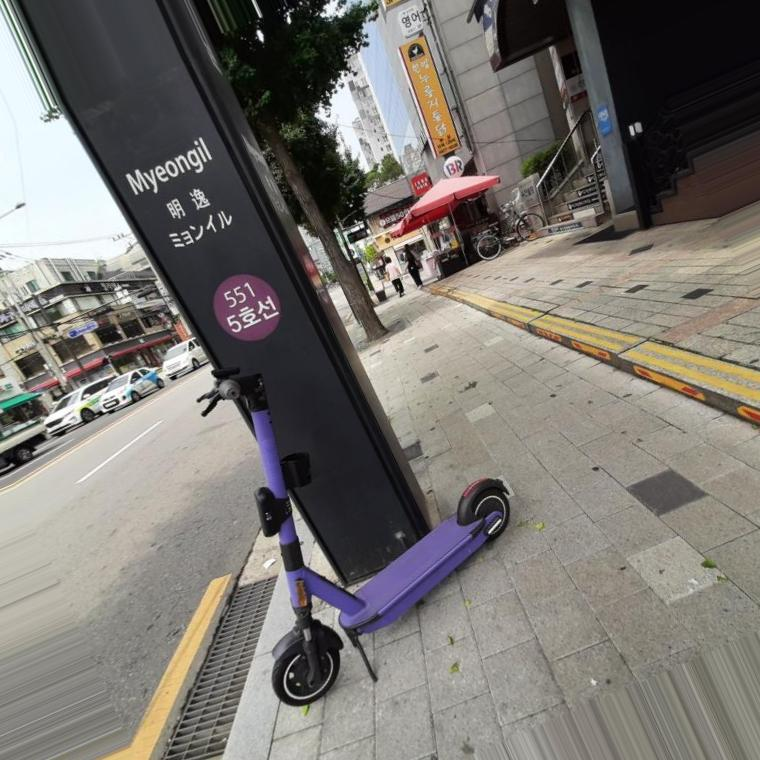scooter: (195, 367, 513, 709)
